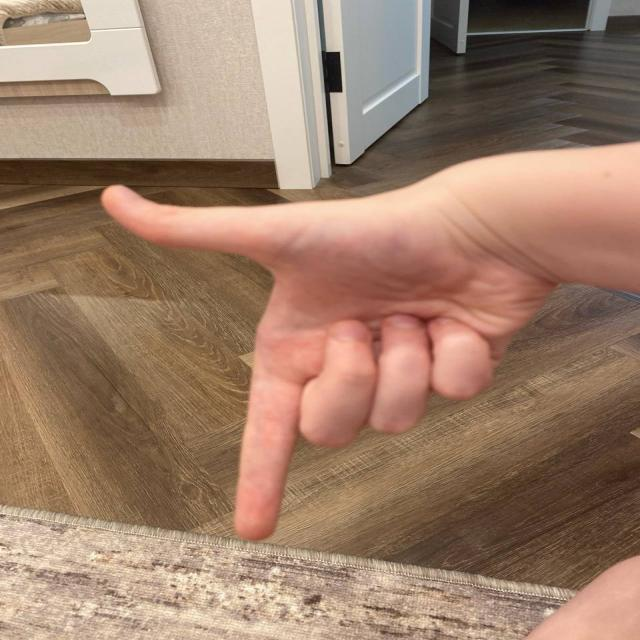g: (105, 170, 522, 545)
